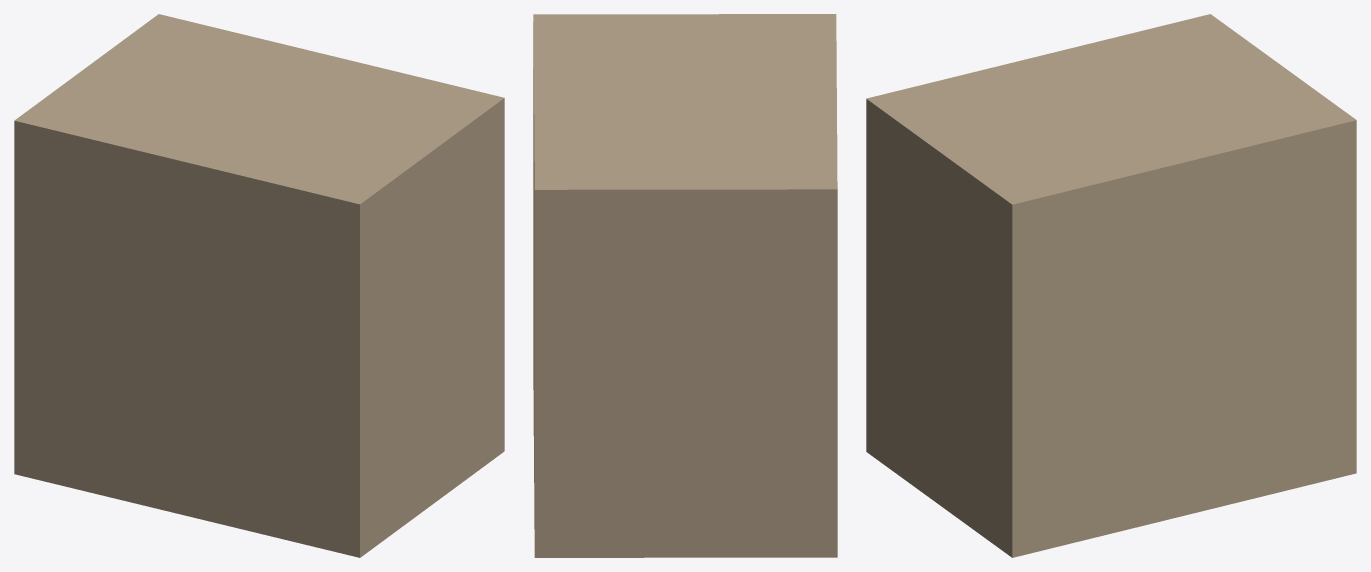
The model's file is bld_107625314.dae.
The picture shows the model from 3 angles, left to right: view 1: azimuth 30°, elevation 25°; view 2: azimuth 150°, elevation 25°; view 3: azimuth 270°, elevation 25°; orthographic projection. The views are drawn at different scales.
Visible parts, largest first — view 1: bld_107625314; view 2: bld_107625314; view 3: bld_107625314.
Part boxes in pixels (<box>): bld_107625314: <box>14,14,504,557</box>; bld_107625314: <box>533,14,837,557</box>; bld_107625314: <box>866,14,1356,557</box>.
Bounding box in the file's own units: 9.27 × 10.07 × 8.
